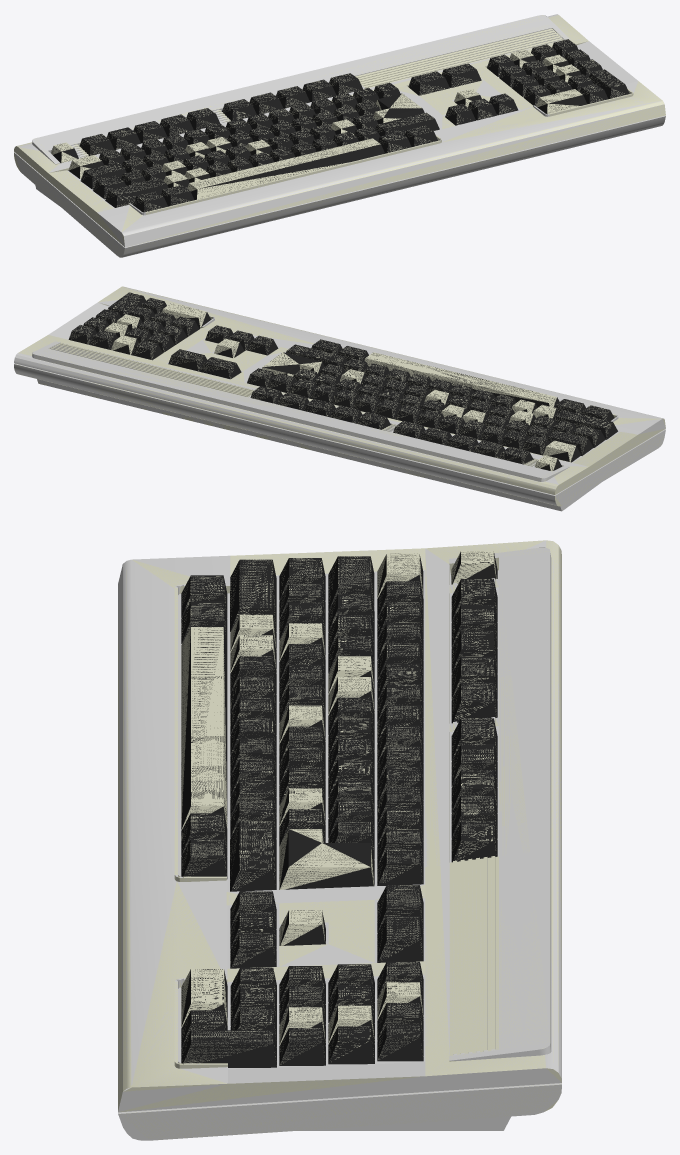
3 views of the same model, one above another, from view 1: azimuth 30°, elevation 25°; view 2: azimuth 150°, elevation 25°; view 3: azimuth 270°, elevation 25° (orthographic). The views are drawn at different scales.
Visible parts, largest first — view 1: Keyboard (×36); view 2: Keyboard (×47); view 3: Keyboard (×102).
Boxes of the visible parts, x1=… form: Keyboard (×36): x1=14, y1=14, x2=665, y2=257; Keyboard (×47): x1=14, y1=286, x2=665, y2=511; Keyboard (×102): x1=118, y1=540, x2=561, y2=1140.
Bounding box in the file's own units: 16.88 × 6 × 1.25.
